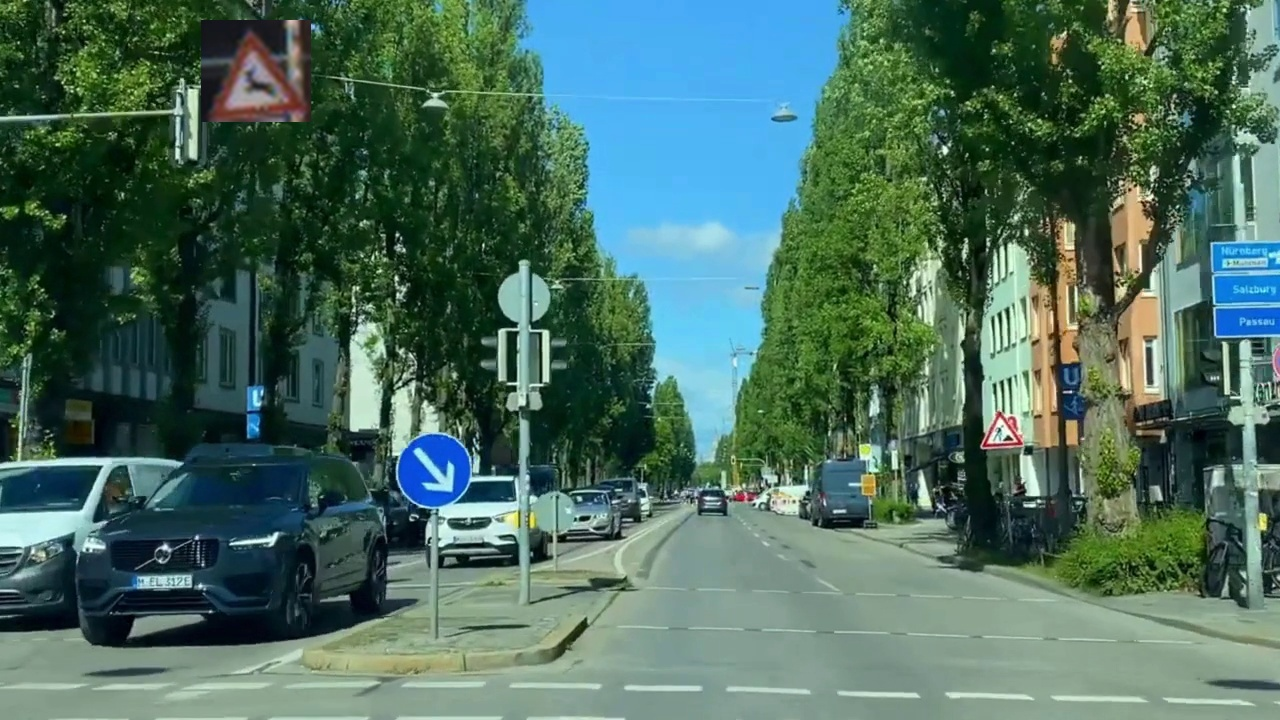Wild animals: (201, 20, 311, 122)
